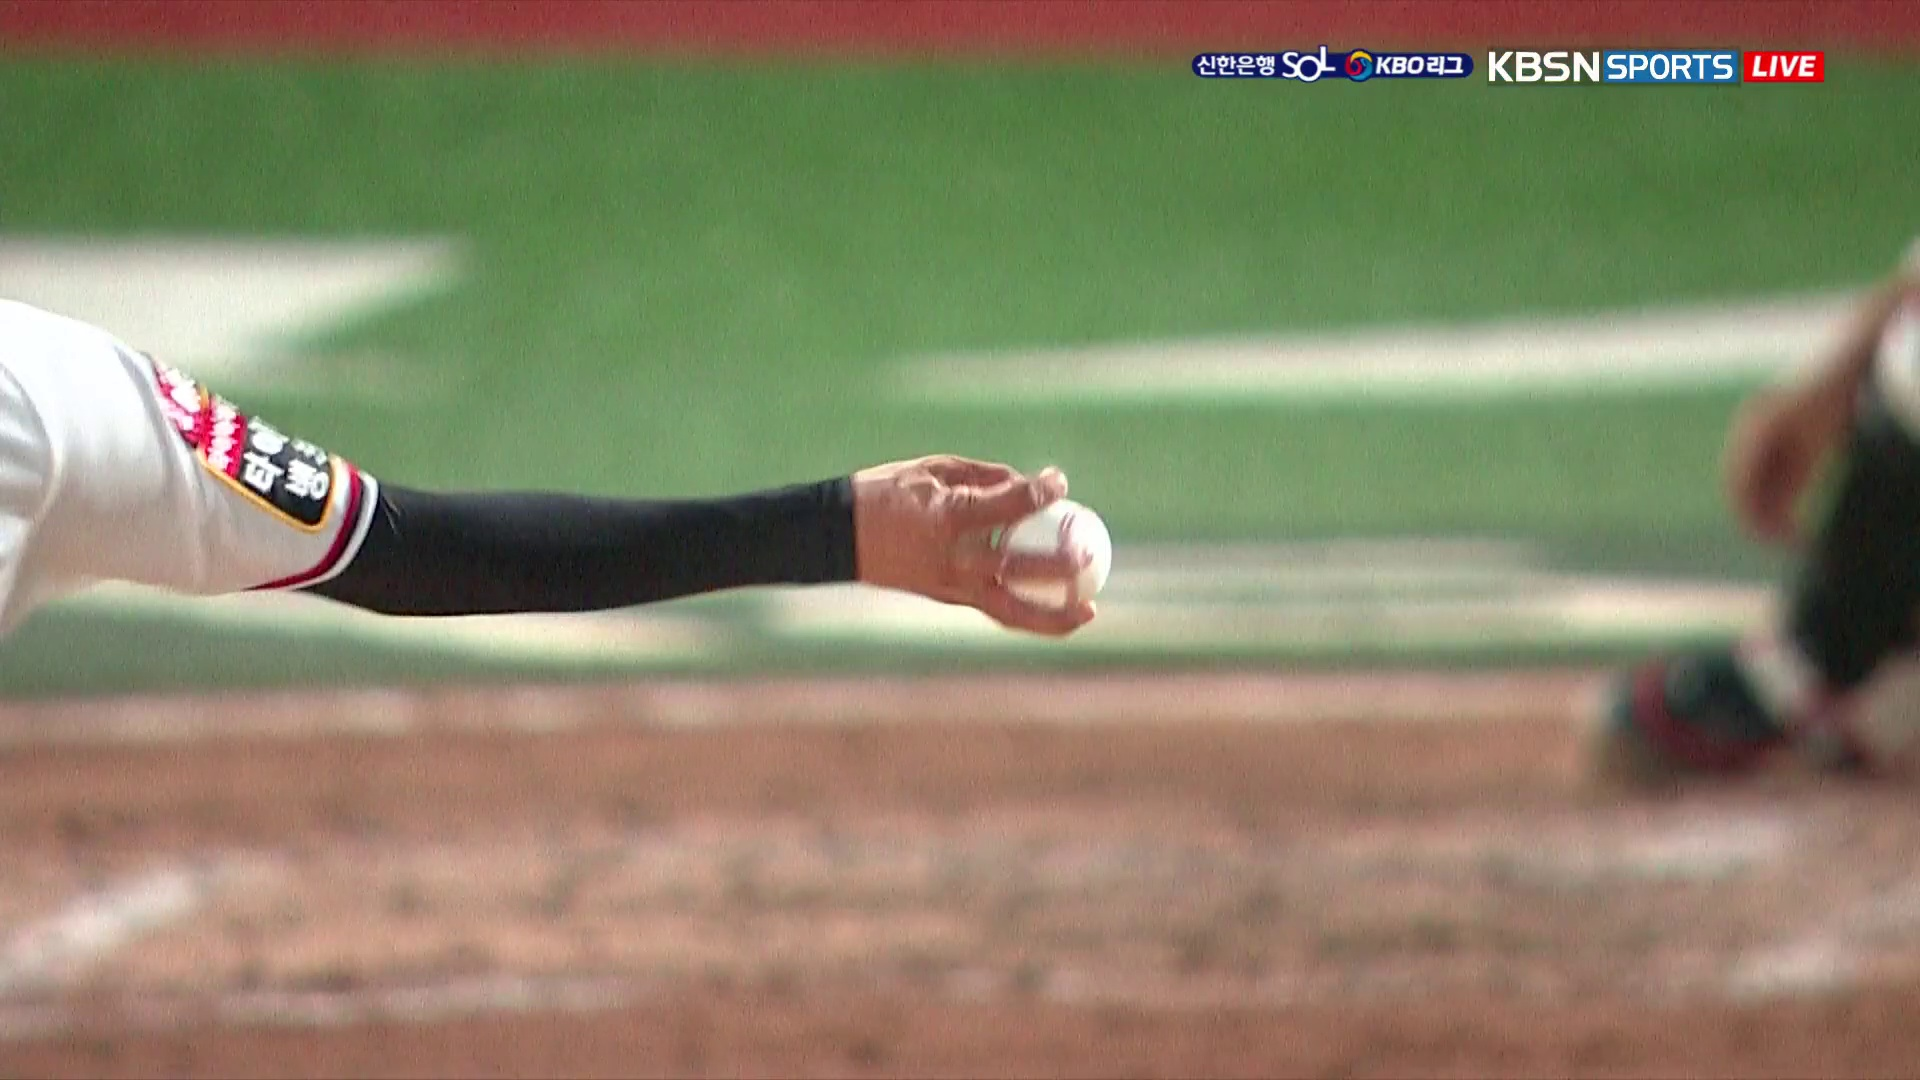zoomin_hand: (344, 429, 1124, 662)
